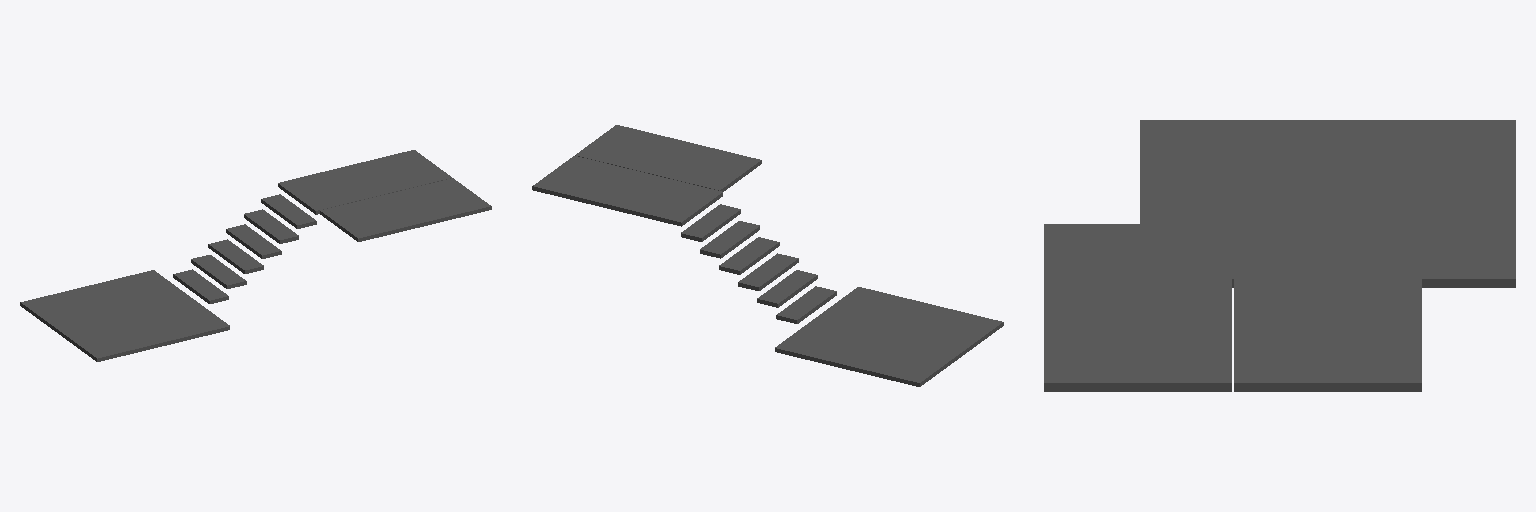
URDF robot description (lab_scene):
<?xml version="1.0" ?>
<robot name="lab_scene" xmlns:xacro="http://ros.org/wiki/xacro">
  <link name="base_link">
    <inertial>
      <mass value="200" />
      <inertia ixx="1.0" ixy="0.0" ixz="0.0" iyy="1.0" iyz="0.0" izz="1.0" />
    </inertial>
    <visual>
      <origin rpy="0 0 0" xyz="0 0 0"/>
      <geometry>
        <mesh filename="package://meshes/lab_scene.stl"/>
      </geometry>
      <material name="">
        <color rgba="0.4 0.4 0.4 1.0"/>
      </material>
    </visual>
    <collision concave="yes">
      <origin rpy="0 0 0" xyz="0 0 0"/>
      <geometry>
        <mesh filename="package://meshes/lab_scene.stl"/>
      </geometry>
    </collision>
  </link>
  <gazebo>
    <static>1</static>
  </gazebo>
</robot>

--- Render facts (derived) ---
3 views of the same robot in one strip: view 1: azimuth 30°, elevation 25°; view 2: azimuth 150°, elevation 25°; view 3: azimuth 270°, elevation 25° (orthographic).
Model lab_scene with 1 links and 0 joints (none), rooted at base_link, posed all joints at 0.
Visible links, largest first — view 1: base_link; view 2: base_link; view 3: base_link.
Boxes of the visible links, left/top/right/bottom form: base_link: left=20, top=150, right=491, bottom=361; base_link: left=532, top=125, right=1003, bottom=386; base_link: left=1044, top=120, right=1515, bottom=391.
Bounding box of the posed robot: 6.19 × 2.76 × 1.25 m (x, y, z).
Meshes: 1 distinct files referenced, 1 mesh visuals loaded (1 binary STL).